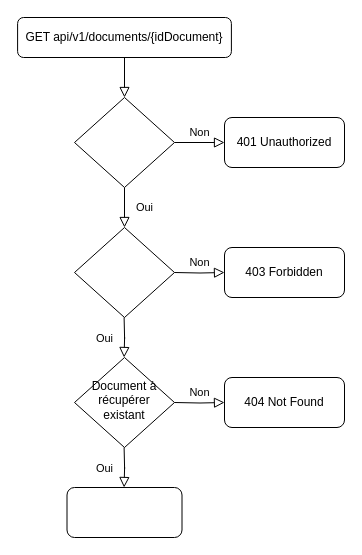
Some shapes in this 362 by 555 pixel diagram are drawn without their labels. The shapes that lost their labels are listed below. From the top down, each one's box as (x1, y1, x2, y2) in pixels, then its label:
(74, 96, 174, 188): Header Authorization présent
(74, 226, 174, 318): Utilisateur administrateur
(66, 486, 182, 538): 200 OK Avec résultat en JSON
